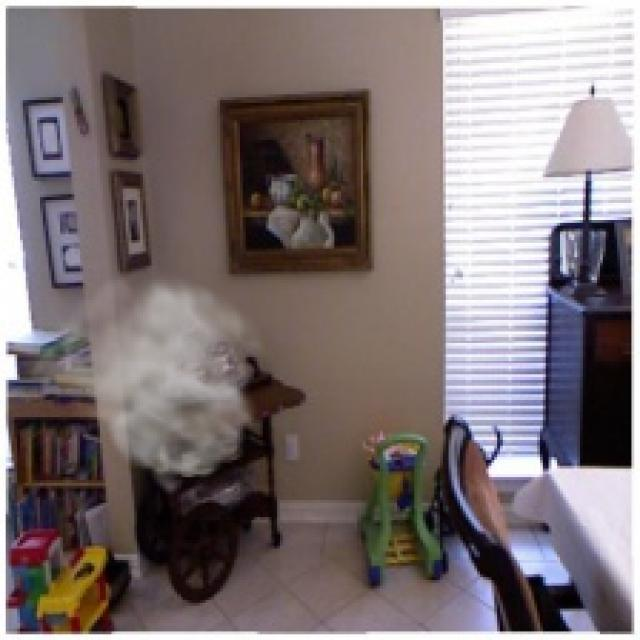Smoke: (11, 268, 280, 498)
